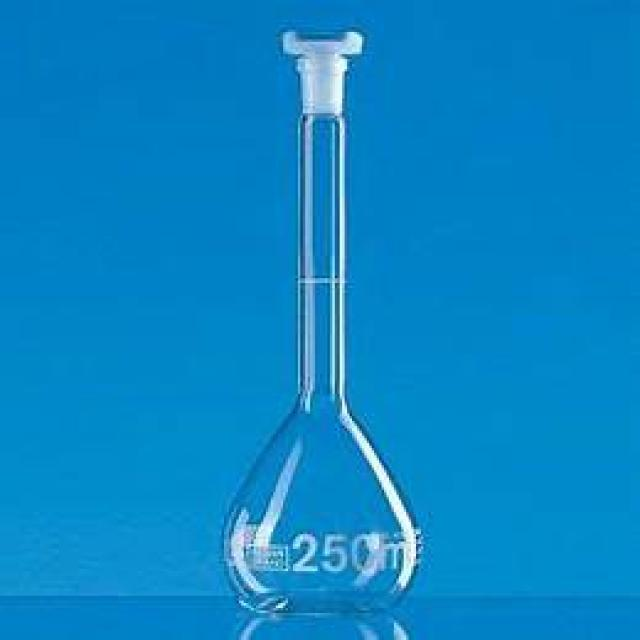Volumetric flask: (223, 24, 426, 610)
